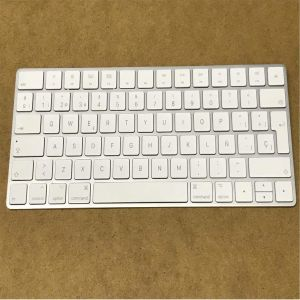keyboard: (5, 55, 300, 209)
